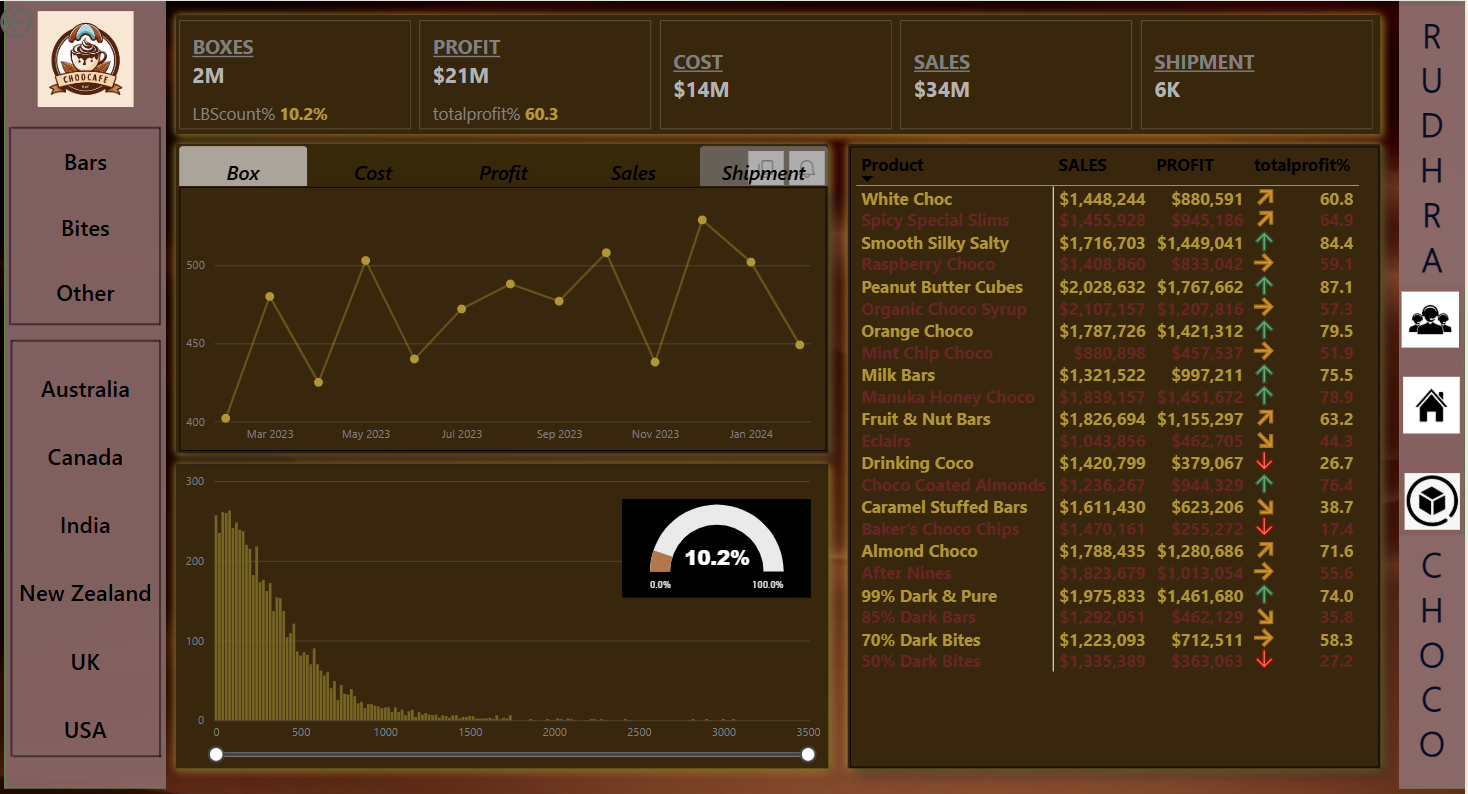

What the dashboard file says about the page in this screenshot:
{"tool":"powerbi","page":{"name":"profit","canvas":[1400,760],"ordinal":2},"visuals":[{"type":"lineChart","fields":{"Y":["calendar.SHIPMENT"],"Category":["calendar.Start of Month"]},"box":[175.3,177.7,615.7,251.4],"z":0,"group":"g1"},{"type":"shape","box":[162.9,127.1,640,312.9],"z":0},{"type":"advancedSlicerVisual","fields":{"Values":["Parameter.Parameter"]},"box":[170,133,628.6,48.6],"z":1000,"group":"g1"},{"type":"shape","box":[162.9,431.4,640,308.6],"z":1000},{"type":"shape","box":[802.9,127.1,525.7,612.9],"z":2000},{"type":"shape","box":[162.9,4.3,1165.7,131.4],"z":3000},{"type":"shape","box":[8.6,0,154.3,750],"z":4000},{"type":"image","box":[10,4.3,152.9,101.4],"z":5000},{"type":"cardVisual","fields":{"Data":["calendar.totalbox","calendar.totalprofit","calendar.totalcost","calendar.totalsales","calendar.totalshipment"]},"box":[170,12.9,1148.6,114.3],"z":6000},{"type":"columnChart","fields":{"Category":["shipments.Boxes (bins)"],"Y":["calendar.totalshipment"]},"box":[175.7,442.9,615.7,285.7],"z":7000},{"type":"gauge","fields":{"Y":["calendar.LBScount%"]},"box":[597.1,474.3,180,94.3],"z":8000},{"type":"advancedSlicerVisual","fields":{"Values":["products.Category"]},"box":[10,120,152.9,188.6],"z":9000},{"type":"advancedSlicerVisual","fields":{"Values":["locations.Geo"]},"box":[10,334.3,152.9,395.7],"z":10000},{"type":"shape","box":[15.7,292.9,141.4,30],"z":11000},{"type":"shape","box":[0,120,28.6,188.6],"z":12000},{"type":"shape","box":[142.9,120,28.6,188.6],"z":13000},{"type":"shape","box":[16,106,141.4,30],"z":14000},{"type":"shape","box":[1.4,322.9,28.6,397.1],"z":15000},{"type":"shape","box":[1337.5,0,62.5,750],"z":16000},{"type":"shape","box":[142.9,322.9,28.6,397.1],"z":17000},{"type":"shape","box":[15.7,308.6,141.4,30],"z":18000},{"type":"shape","box":[17.1,704.3,141.4,30],"z":19000},{"type":"group","id":"g1","title":"Group 1","box":[170,133,628.6,296.1],"z":20000},{"type":"image","box":[1335,271.7,65,63.3],"z":21000},{"type":"image","box":[1337.1,444.3,62.9,64.3],"z":22000},{"type":"pivotTable","fields":{"Values":["calendar.totalsales","calendar.totalprofit","calendar.totalprofit%"],"Rows":["products.Product"]},"box":[814.3,138.6,504.3,591.4],"z":23000},{"type":"textbox","box":[1337.1,4.3,62.9,267.1],"z":26000},{"type":"textbox","box":[1337.1,508.6,62.9,241.4],"z":27000},{"type":"image","box":[1335.7,348.6,64.3,72.9],"z":28000},{"type":"actionButton","box":[0,0,100,40],"z":29000}]}

Visuals, with their boxes in screenshot pixels (x1, y1, x2, y2), scaled from the page's 1400x760 canvas onto the 1468x794 screenshot:
lineChart - calendar.SHIPMENT x calendar.Start of Month: (184, 186, 829, 448)
shape: (171, 133, 842, 460)
advancedSlicerVisual - Parameter.Parameter: (178, 139, 837, 190)
shape: (171, 451, 842, 773)
shape: (842, 133, 1393, 773)
shape: (171, 4, 1393, 142)
shape: (9, 0, 171, 784)
image: (10, 4, 171, 110)
cardVisual - calendar.totalbox x calendar.totalprofit: (178, 13, 1383, 133)
columnChart - shipments.Boxes (bins) x calendar.totalshipment: (184, 463, 830, 761)
gauge - calendar.LBScount%: (626, 496, 815, 594)
advancedSlicerVisual - products.Category: (10, 125, 171, 322)
advancedSlicerVisual - locations.Geo: (10, 349, 171, 763)
shape: (16, 306, 165, 337)
shape: (0, 125, 30, 322)
shape: (150, 125, 180, 322)
shape: (17, 111, 165, 142)
shape: (1, 337, 31, 752)
shape: (1402, 0, 1467, 784)
shape: (150, 337, 180, 752)
shape: (16, 322, 165, 354)
shape: (18, 736, 166, 767)
"Group 1" group: (178, 139, 837, 448)
image: (1400, 284, 1467, 350)
image: (1402, 464, 1467, 531)
pivotTable - calendar.totalsales x calendar.totalprofit: (854, 145, 1383, 763)
textbox: (1402, 4, 1467, 284)
textbox: (1402, 531, 1467, 784)
image: (1401, 364, 1467, 440)
actionButton: (0, 0, 105, 42)
